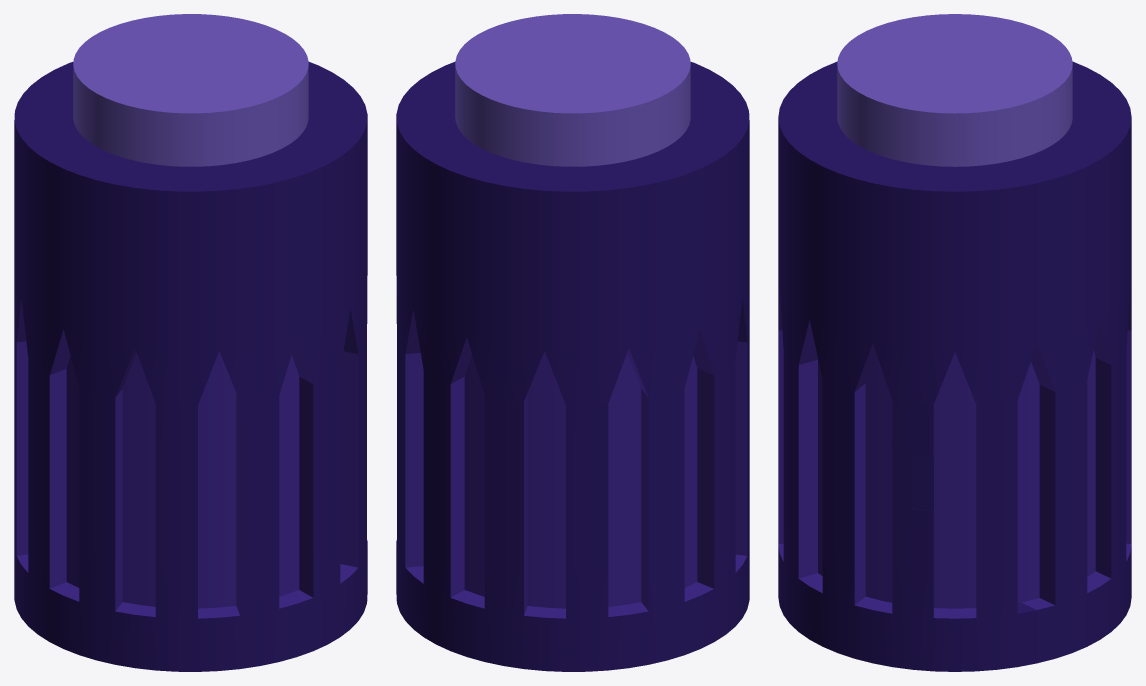
3 renders of one model, left to right at view 1: azimuth 30°, elevation 25°; view 2: azimuth 150°, elevation 25°; view 3: azimuth 270°, elevation 25°, orthographic.
Visible parts, largest first — view 1: Cylinder001, Object010; view 2: Cylinder001, Object010; view 3: Cylinder001, Object010.
Part boxes in pixels (<box>): Cylinder001: <box>14,61,367,671</box>; Object010: <box>73,14,308,166</box>; Cylinder001: <box>396,61,749,671</box>; Object010: <box>455,14,690,166</box>; Cylinder001: <box>778,61,1131,671</box>; Object010: <box>837,14,1072,166</box>.
Size of the model in its own units: 300 by 500 by 300.
